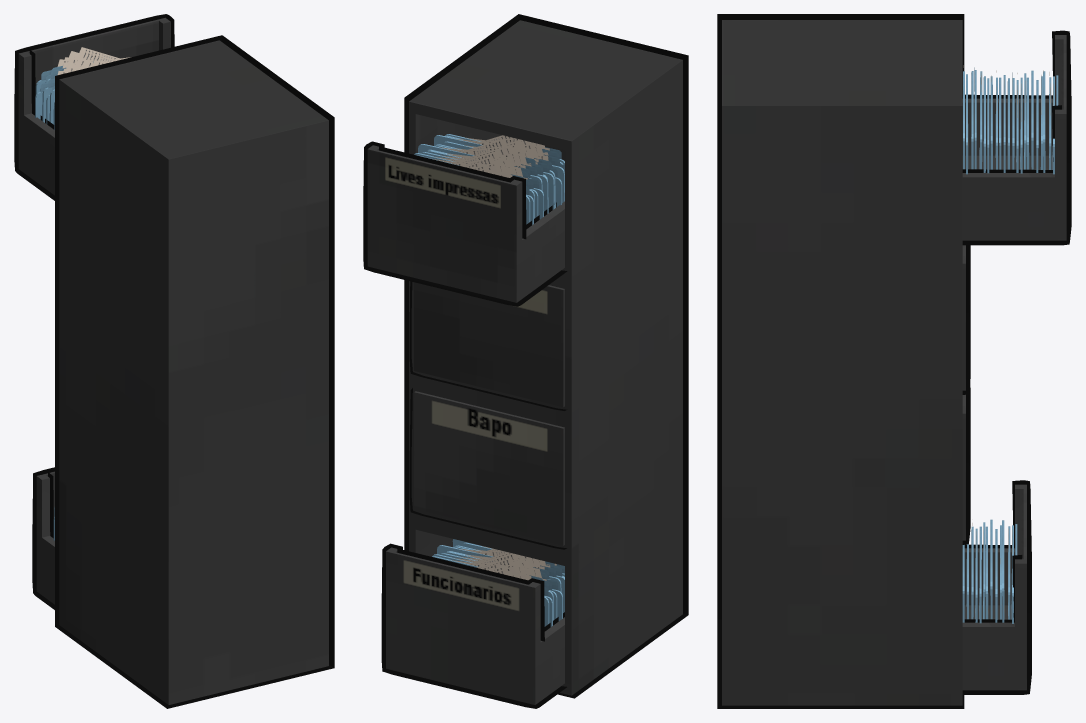
Rendered from Armario 2.glb.
The picture shows the model from 3 angles, left to right: view 1: azimuth 30°, elevation 25°; view 2: azimuth 150°, elevation 25°; view 3: azimuth 270°, elevation 25°; orthographic projection. The views are drawn at different scales.
Visible parts, largest first — view 1: Docs 2; view 2: Docs 2; view 3: Docs 2.
Part boxes in pixels (x1=…): Docs 2: x1=14, y1=14, x2=334, y2=708; Docs 2: x1=363, y1=14, x2=688, y2=708; Docs 2: x1=717, y1=14, x2=1071, y2=708.
Size of the model in its own units: 0.345 by 1.08 by 0.5752.
Materials: 3 (2 with a texture image).
